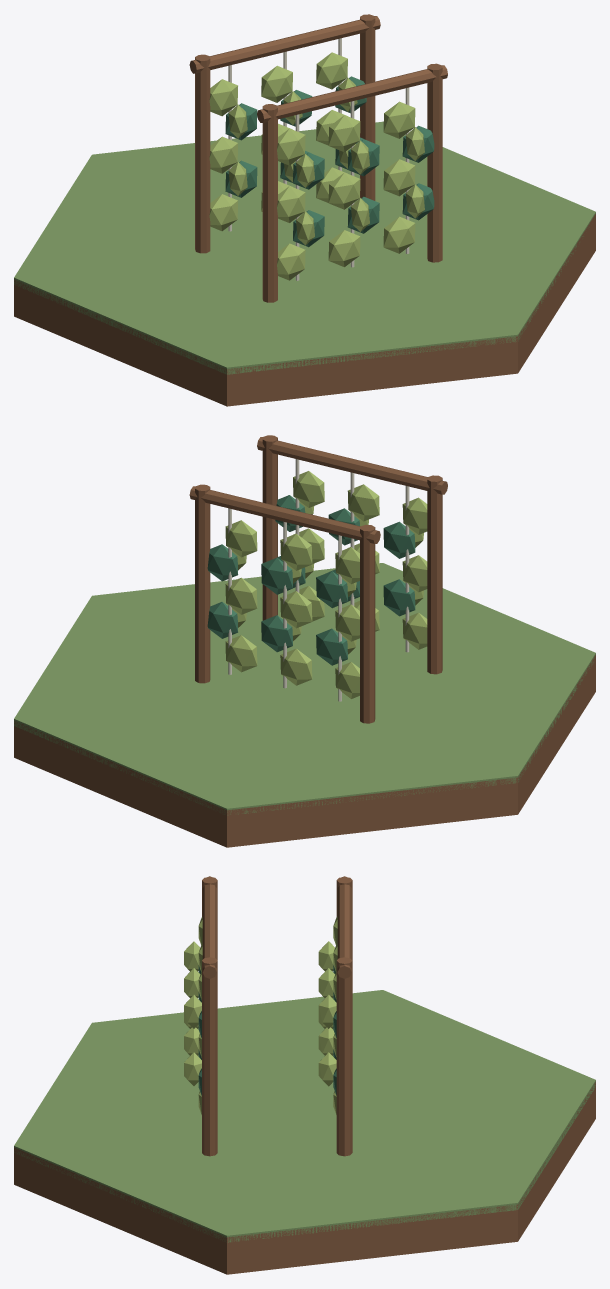
The model's file is hopTrellis.glb.
The picture shows the model from 3 angles, top to bottom: view 1: azimuth 30°, elevation 25°; view 2: azimuth 150°, elevation 25°; view 3: azimuth 270°, elevation 25°; orthographic projection.
Visible parts, largest first — view 1: Cone.168, Cone.167, Cone.169, Cone.175, Cone.170, Cone.171, Cone.177, Cone.176, Icosphere.091, Icosphere.094, Icosphere.125, Icosphere.097 (+10 smaller); view 2: Cone.168, Cone.167, Cone.169, Cone.175, Cone.176, Cone.171, Cone.177, Cone.170, Icosphere.125, Icosphere.119, Icosphere.097, Icosphere.118 (+18 smaller); view 3: Cone.168, Cone.167, Cone.176, Cone.170, Cone.171, Cone.177.
Part boxes in pixels (x1,y1,x2,y2): Cone.168: [14, 121, 595, 374]; Cone.167: [14, 214, 595, 406]; Cone.169: [262, 104, 277, 302]; Cone.175: [195, 54, 210, 253]; Cone.170: [427, 63, 442, 262]; Cone.171: [257, 65, 447, 122]; Cone.177: [189, 16, 380, 73]; Cone.176: [360, 14, 375, 200]; Icosphere.091: [328, 230, 360, 267]; Icosphere.094: [328, 172, 360, 209]; Icosphere.125: [316, 52, 347, 89]; Icosphere.097: [328, 115, 360, 152]; Cone.168: [14, 563, 595, 815]; Cone.167: [14, 655, 595, 847]; Cone.169: [427, 475, 442, 674]; Cone.175: [360, 524, 375, 723]; Cone.176: [195, 484, 210, 683]; Cone.171: [257, 437, 447, 494]; Cone.177: [189, 486, 380, 543]; Cone.170: [262, 435, 277, 620]; Icosphere.125: [225, 520, 257, 557]; Icosphere.119: [225, 635, 257, 672]; Icosphere.097: [347, 484, 379, 521]; Icosphere.118: [280, 533, 312, 570]; Cone.168: [14, 990, 595, 1242]; Cone.167: [14, 1082, 595, 1274]; Cone.176: [336, 957, 352, 1156]; Cone.170: [202, 957, 217, 1156]; Cone.171: [202, 876, 216, 978]; Cone.177: [337, 876, 351, 978].
Size of the model in its own units: 3.67 by 1.61 by 3.67.
